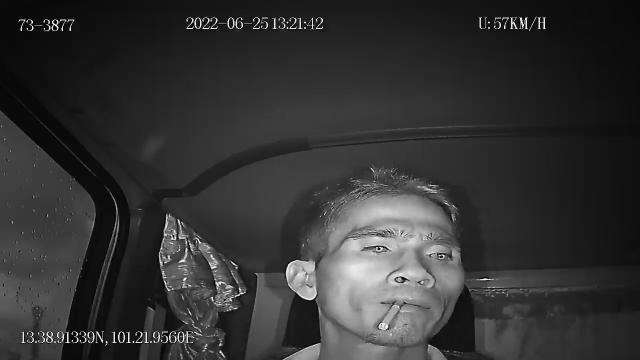SafeDriving: (418, 241, 462, 266), (355, 236, 398, 260)
Smoking: (379, 301, 401, 331)
